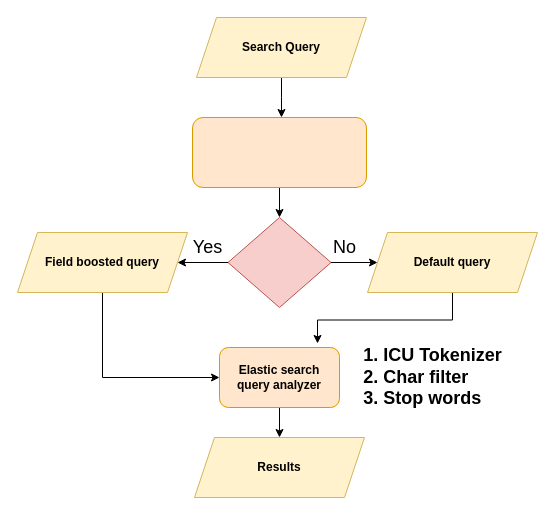
Some shapes in this 555 by 515 pixel diagram are drawn without their labels. Each missing label, with the box of its shape:
Field boosting ?: (227, 216, 331, 308)
Tokenize with Sinling Stop words if enabled Check for field boosting: (192, 116, 366, 188)
